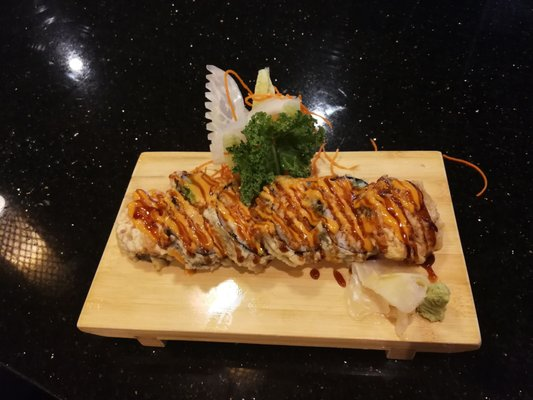curry: (224, 109, 327, 206)
